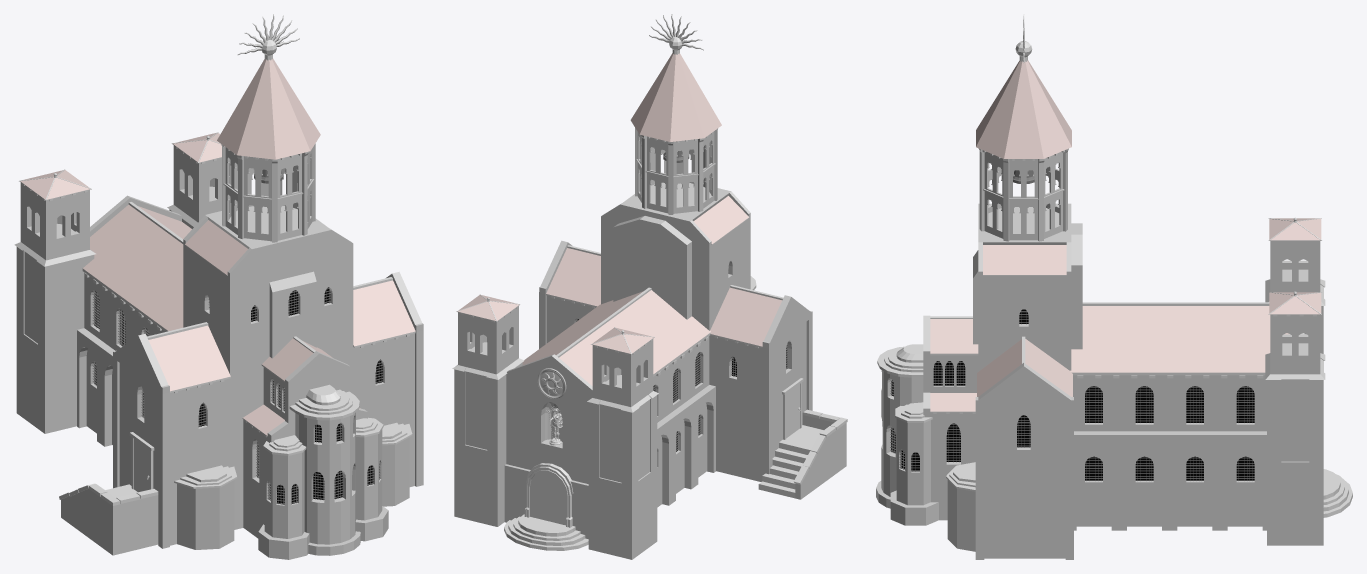
The model's file is Church1Upload.glb.
The picture shows the model from 3 angles, left to right: view 1: azimuth 30°, elevation 25°; view 2: azimuth 150°, elevation 25°; view 3: azimuth 270°, elevation 25°; orthographic projection. The views are drawn at different scales.
Visible parts, largest first — view 1: StoneBrickWalls, CopperRoof, StoneRoof, WindowBars, Windows, StoneBeams, SideDoor, SideStairs; view 2: StoneBrickWalls, CopperRoof, FrontDoor, SideStairs, StoneBeams, SideDoor, SunSymbol, WindowBars; view 3: StoneBrickWalls, CopperRoof, Windows, WindowBars, StoneRoof, StoneBeams, FrontDoor.
Boxes of the visible parts, box(x1,y1,x2,y2) form: StoneBrickWalls: box(14, 143, 423, 559); CopperRoof: box(19, 14, 415, 436); StoneRoof: box(174, 384, 412, 488); WindowBars: box(92, 287, 383, 504); Windows: box(95, 287, 382, 504); StoneBeams: box(22, 145, 409, 436); SideDoor: box(129, 432, 154, 492); SideStairs: box(59, 483, 158, 505); StoneBrickWalls: box(452, 128, 846, 559); CopperRoof: box(456, 14, 782, 385); FrontDoor: box(504, 463, 588, 550); SideStairs: box(758, 409, 847, 498); StoneBeams: box(460, 126, 783, 375); SideDoor: box(782, 378, 803, 439); SunSymbol: box(537, 368, 566, 398); WindowBars: box(576, 269, 788, 451); StoneBrickWalls: box(876, 148, 1325, 559); CopperRoof: box(930, 14, 1321, 412); Windows: box(891, 309, 1254, 480); WindowBars: box(890, 309, 1254, 480); StoneRoof: box(877, 344, 975, 491); StoneBeams: box(930, 150, 1316, 413); FrontDoor: box(1323, 469, 1352, 517).
Size of the model in its own units: 12.41 by 18.77 by 16.92.
